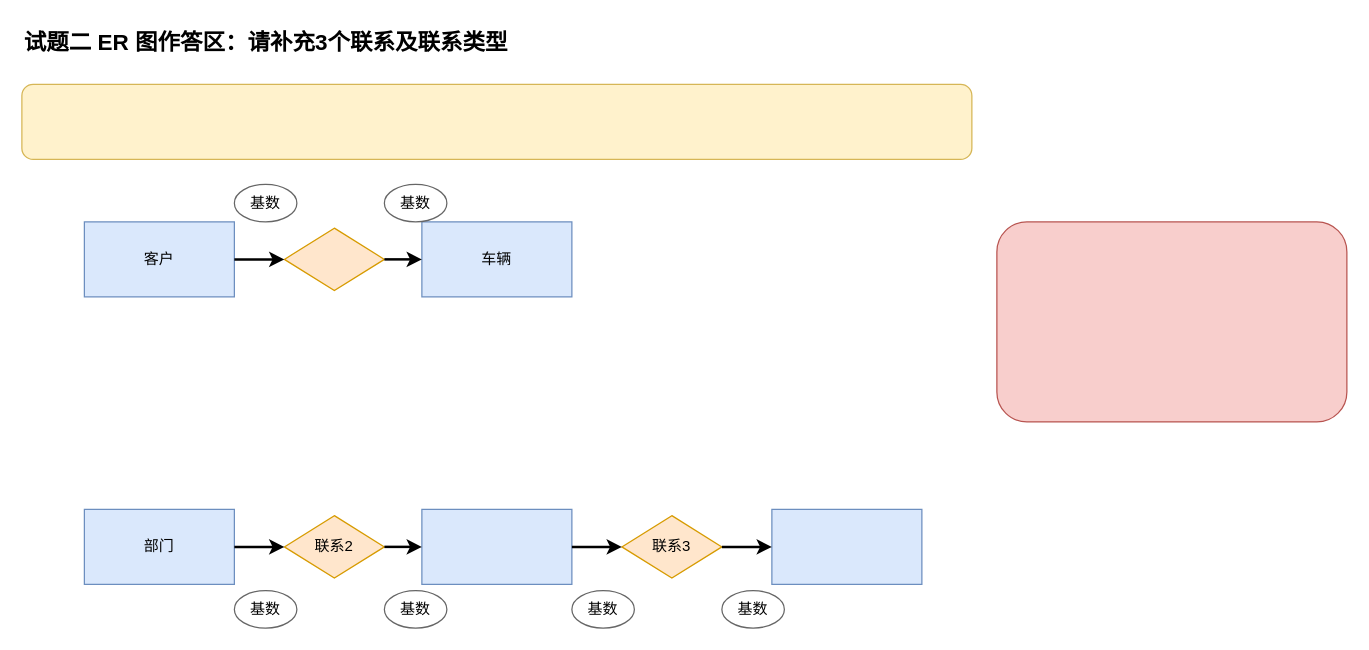
The diagram is 1369 pixels wide and 650 high, and some of its shapes have lost their labels. Here are the shapes that lost their labels. From the top down, the centre of each, then its label:
At pixel 496 121: "可编辑说明：实体和联系均可拖动修改；请在菱形中填写联系名，在连线两端填写 1、n、m 等基数。".
At pixel 333 259: "联系1".
At pixel 1171 321: "问题4补充区：如果维修单与维修工关系变化，请在这里画新联系或写新关系模式。".
At pixel 496 546: "员工".
At pixel 846 546: "维修单".
